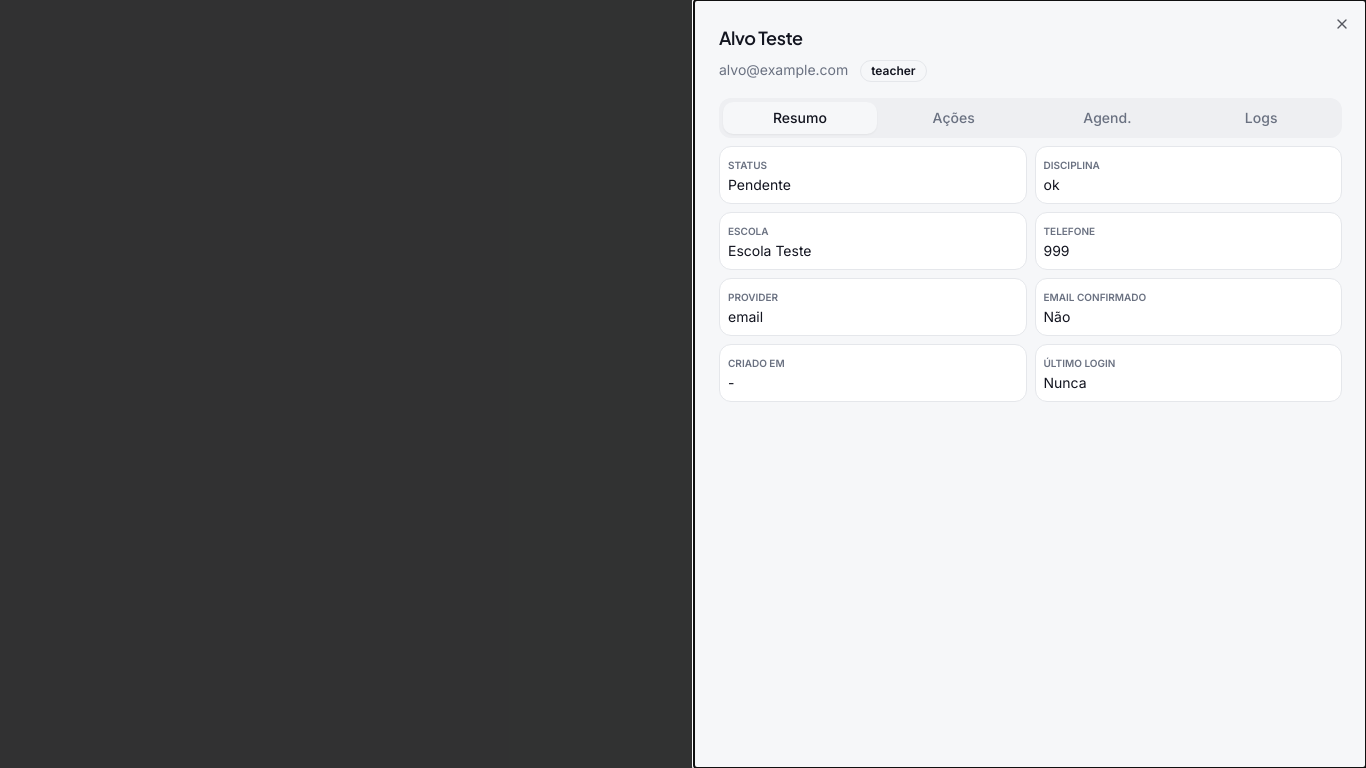
Test: UserDetailDrawer — fluxo auditado (motivo obrigatório) › Aprovar usuário chama admin_set_user_approval com _approved=true e _reason
Later steps or results of the test are not shown.
Expected: the text "alvo@example.com teacher" is shown, [719,60,927,82]
Click the tab "Ações": (954, 118) [877,102,1031,134]
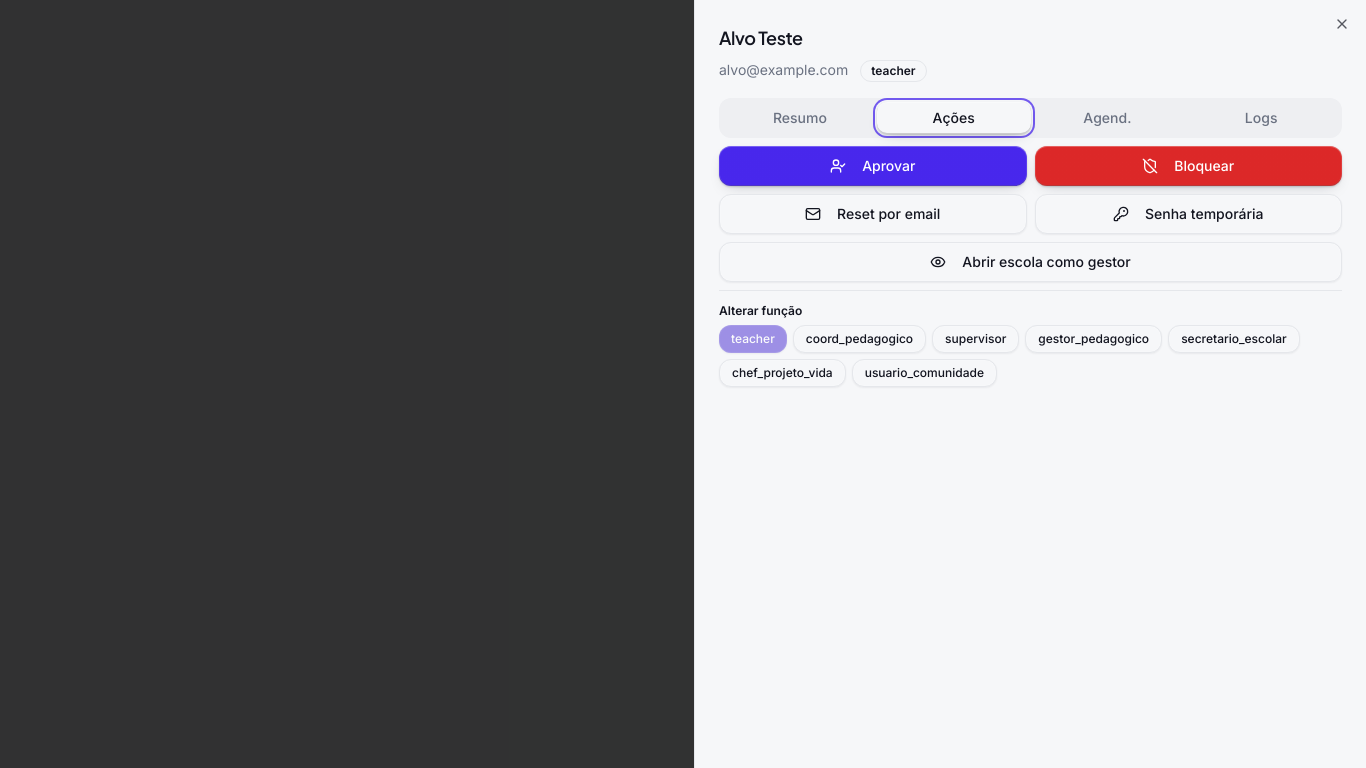
Result: the panel named "Ações" is shown at [719,146,1342,387]
Click the button "Aprovar": (873, 166) [719,146,1026,186]
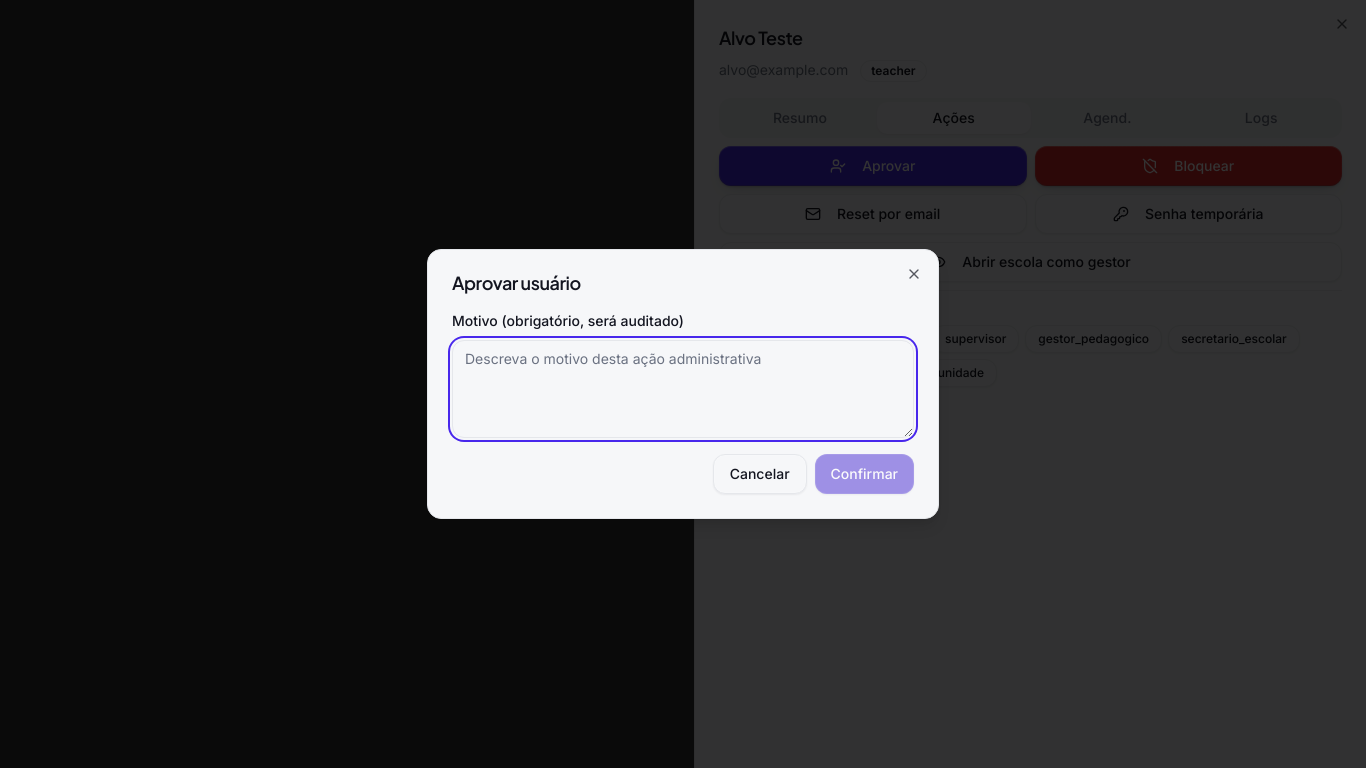
In the text box with placeholder "Descreva o motivo desta ação administrativa": (683, 389) [452,340,914,438], type "Usuário verificado por documento oficial"
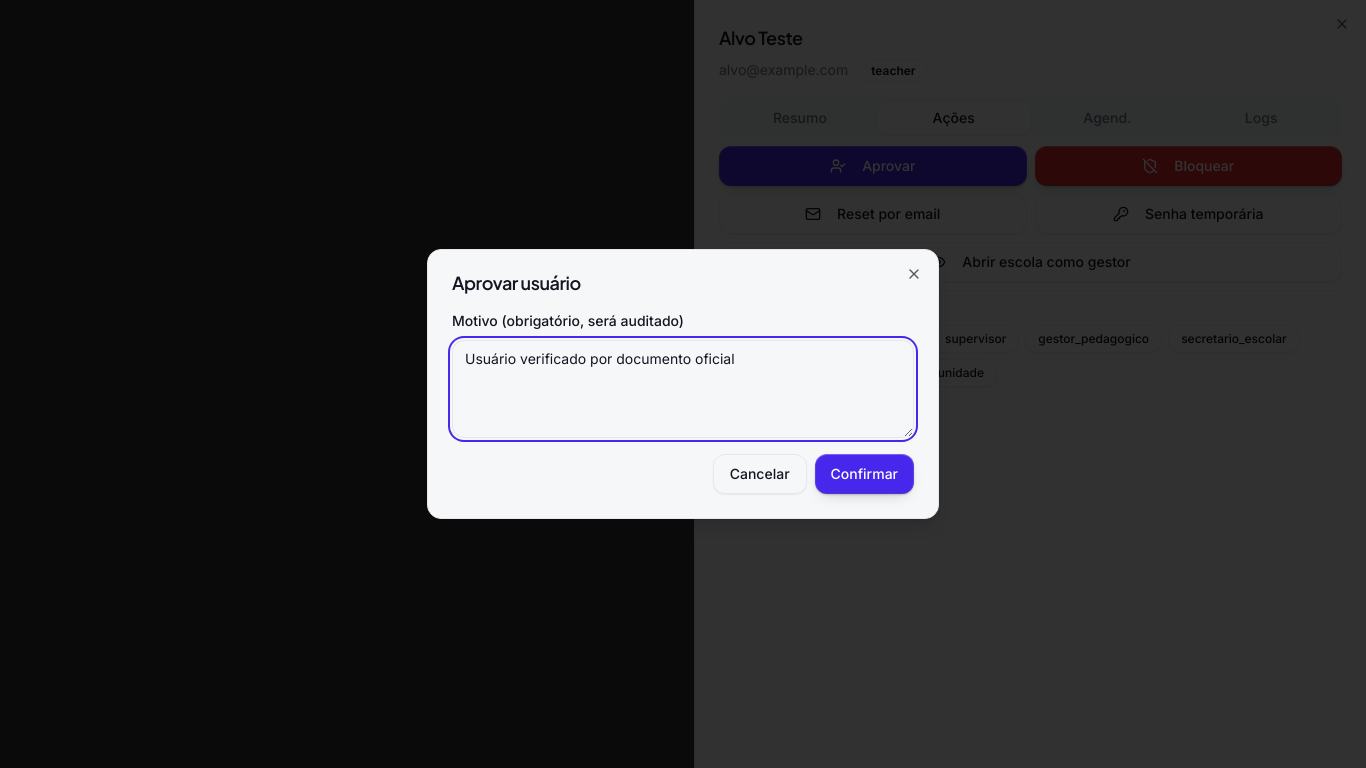
Result: the button "Confirmar" is enabled at [815,454,914,494]
